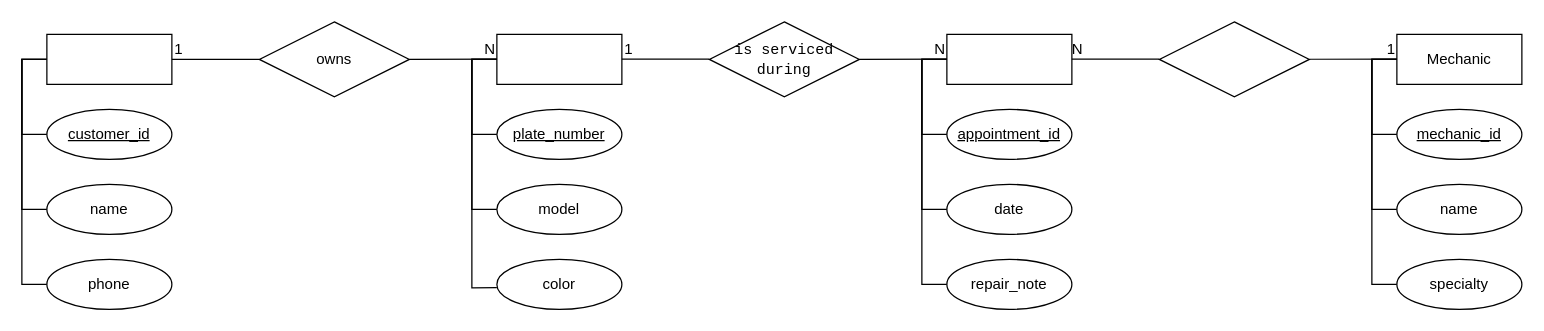
Image size: 1544x331. Some labels were removed from this diagram. Each missing label, with the centre of its shape:
Car: the point at 559,58
Customer: the point at 109,58
performs: the point at 1233,59
Service Appointment: the point at 1009,58
